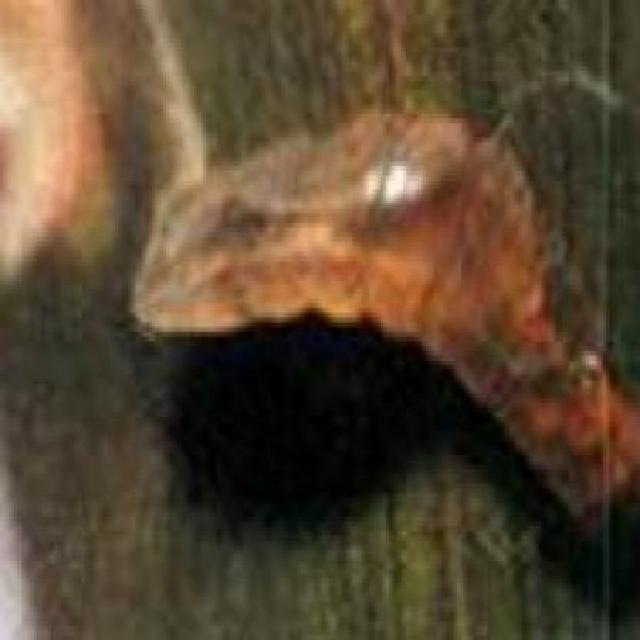whorl-maggot: (138, 106, 638, 541)
